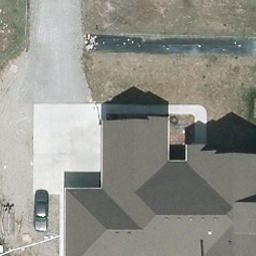car: (32, 189, 50, 234)
